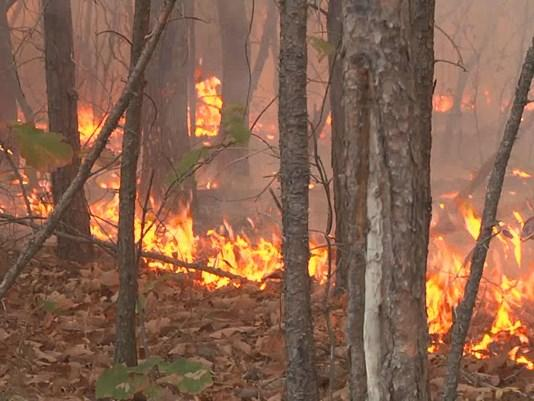fire: (11, 157, 331, 297), (422, 167, 533, 367), (37, 98, 135, 169), (178, 70, 231, 147)
